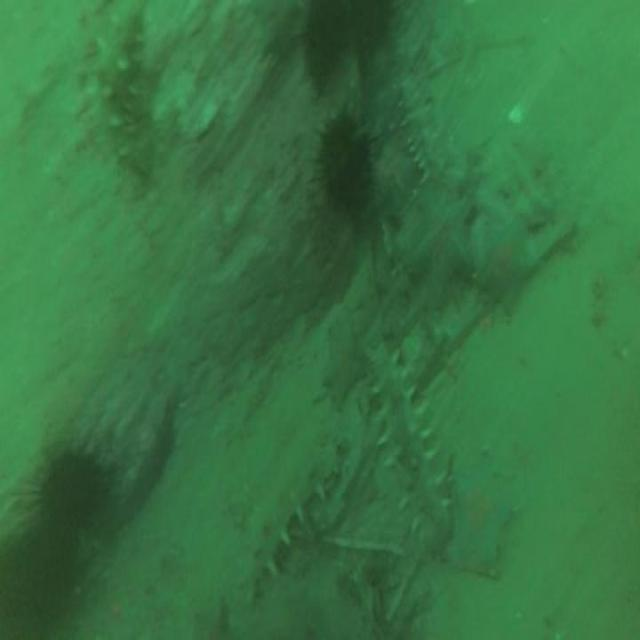echinus: (320, 115, 369, 208), (48, 449, 100, 526)
holothurian: (367, 343, 446, 531), (247, 439, 335, 604), (96, 5, 147, 163), (397, 79, 447, 180)
scallop: (508, 101, 526, 125)
starfish: (452, 452, 514, 572), (410, 194, 474, 304), (478, 223, 537, 310), (324, 329, 358, 403)
